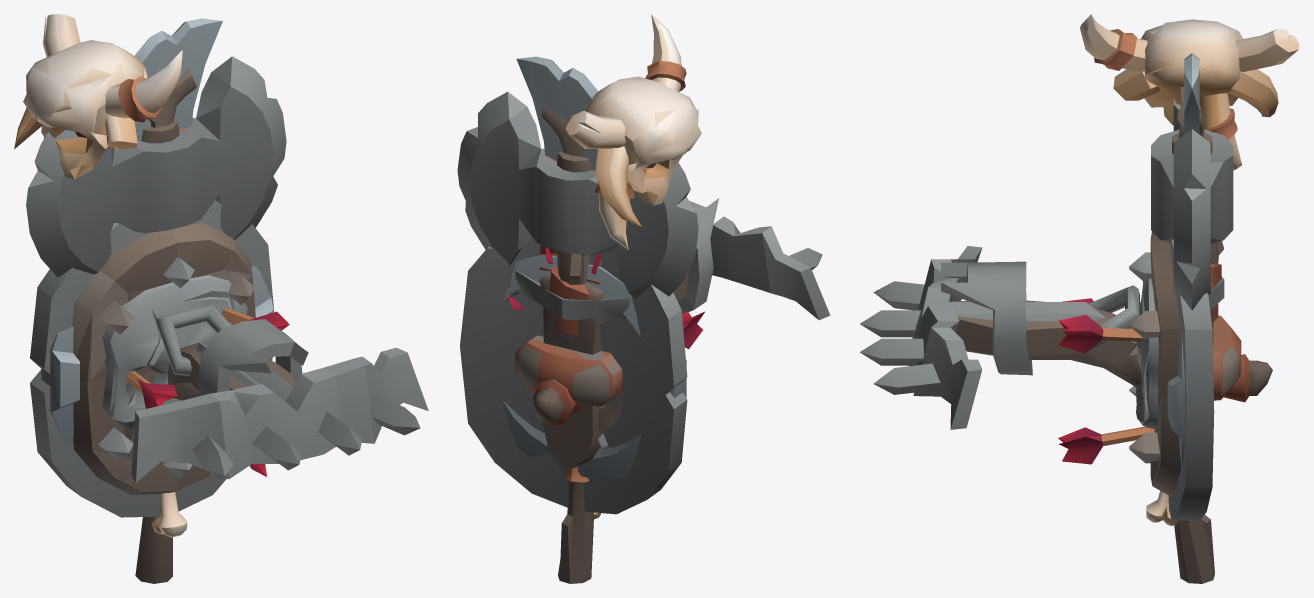
Rendered from skeletons.glb.
3 renders of one model, left to right at view 1: azimuth 30°, elevation 25°; view 2: azimuth 150°, elevation 25°; view 3: azimuth 270°, elevation 25°, orthographic. The views are drawn at different scales.
Visible parts, largest first — view 1: Skeleton_Crossbow, Skeleton_Axe, Skeleton_Shield_Large_B, Skeleton_Shield_Large_A, Skeleton_Staff, Skeleton_Blade, Skeleton_Shield_Small_B, Skeleton_Shield_Small_A; view 2: Skeleton_Axe, Skeleton_Shield_Large_B, Skeleton_Staff, Skeleton_Shield_Large_A, Skeleton_Crossbow, Skeleton_Blade, Skeleton_Shield_Small_B, Skeleton_Quiver; view 3: Skeleton_Crossbow, Skeleton_Staff, Skeleton_Axe, Skeleton_Shield_Large_B, Skeleton_Shield_Large_A, Skeleton_Shield_Small_B, Skeleton_Blade, Skeleton_Shield_Small_A.
Boxes of the visible parts, left/top/right/bottom form: Skeleton_Crossbow: left=131, top=304, right=428, bottom=482; Skeleton_Axe: left=26, top=56, right=286, bottom=277; Skeleton_Shield_Large_B: left=30, top=200, right=269, bottom=516; Skeleton_Shield_Large_A: left=30, top=201, right=274, bottom=517; Skeleton_Staff: left=14, top=14, right=196, bottom=583; Skeleton_Blade: left=134, top=18, right=222, bottom=140; Skeleton_Shield_Small_B: left=45, top=267, right=289, bottom=476; Skeleton_Shield_Small_A: left=41, top=266, right=273, bottom=444; Skeleton_Axe: left=457, top=91, right=698, bottom=335; Skeleton_Shield_Large_B: left=471, top=236, right=687, bottom=510; Skeleton_Staff: left=541, top=14, right=701, bottom=583; Skeleton_Shield_Large_A: left=460, top=247, right=687, bottom=514; Skeleton_Crossbow: left=533, top=198, right=830, bottom=425; Skeleton_Blade: left=515, top=56, right=630, bottom=450; Skeleton_Shield_Small_B: left=502, top=255, right=705, bottom=480; Skeleton_Quiver: left=540, top=247, right=604, bottom=468; Skeleton_Crossbow: left=860, top=246, right=1272, bottom=429; Skeleton_Staff: left=1080, top=14, right=1299, bottom=583; Skeleton_Axe: left=1151, top=99, right=1233, bottom=321; Skeleton_Shield_Large_B: left=1129, top=231, right=1238, bottom=520; Skeleton_Shield_Large_A: left=1136, top=239, right=1241, bottom=520; Skeleton_Shield_Small_B: left=1058, top=298, right=1185, bottom=464; Skeleton_Blade: left=1184, top=53, right=1224, bottom=310; Skeleton_Shield_Small_A: left=1167, top=337, right=1185, bottom=464.
Bounding box in the file's own units: 1.11 × 2.1 × 1.51.
Materials: 1 (1 with a texture image).
